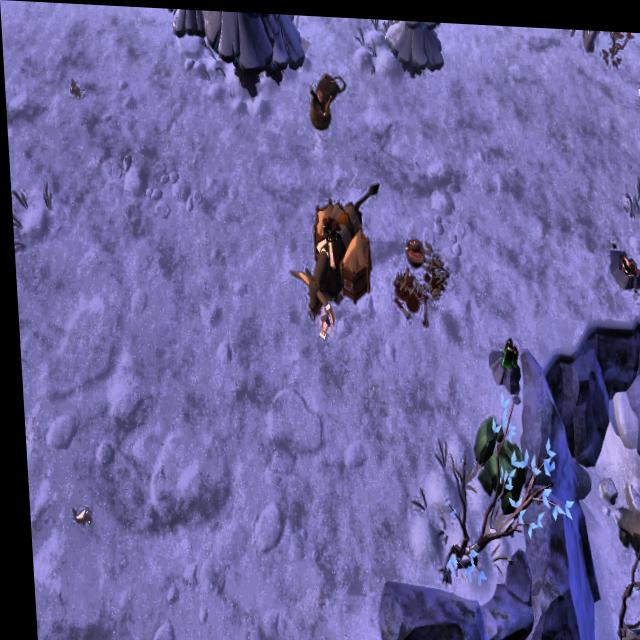ore_t3: (494, 329, 516, 371)
rock_t3: (463, 408, 526, 503)
